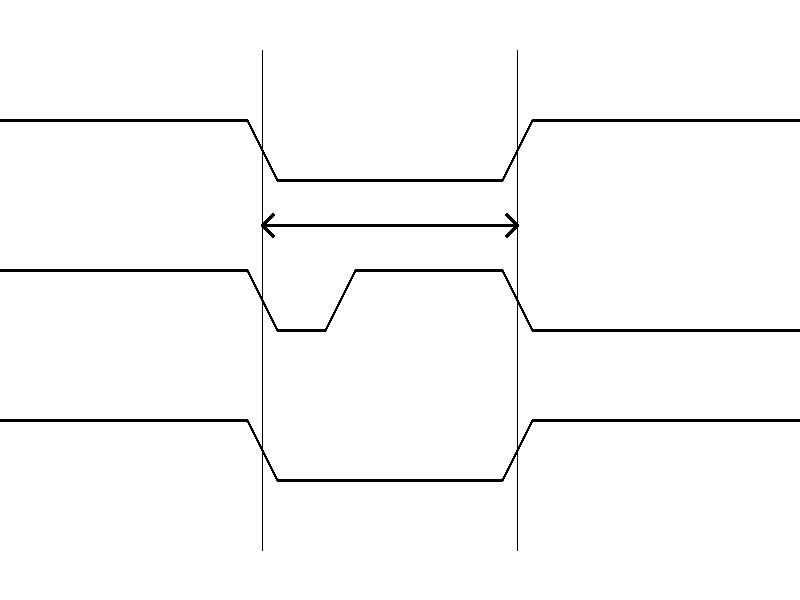double_arrow: (262, 210, 517, 240)
